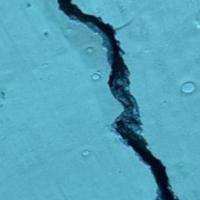crack: (50, 0, 181, 199)
